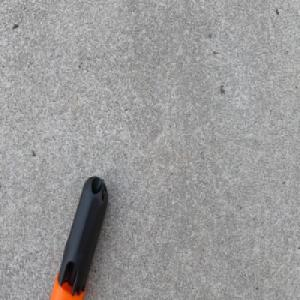PlasticPart: (49, 173, 110, 300)
